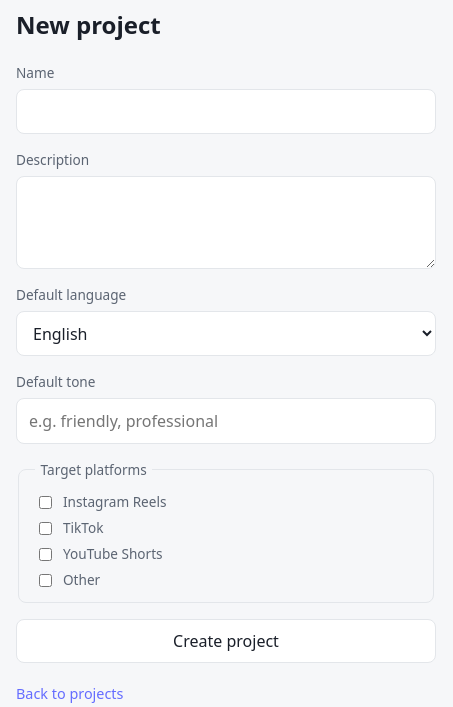
it: NewProjectPage › shows a validation error on empty submit
Click the button "Create project" at {"x": 226, "y": 641}, box 16,619 -> 436,663
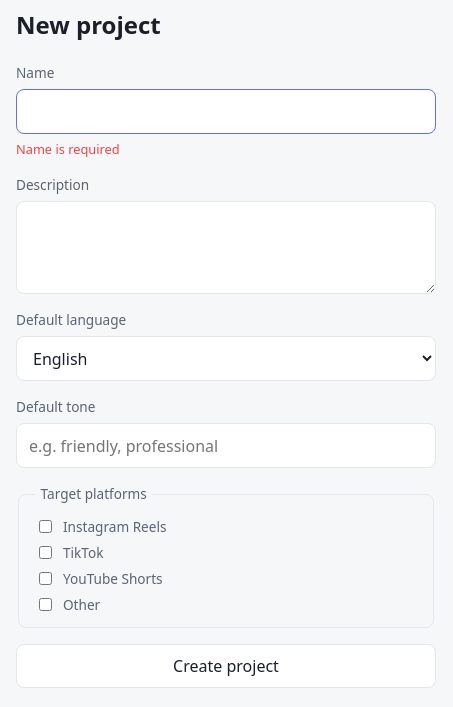
expect the text "Name is required" is shown: met, box 16,140 -> 120,158
